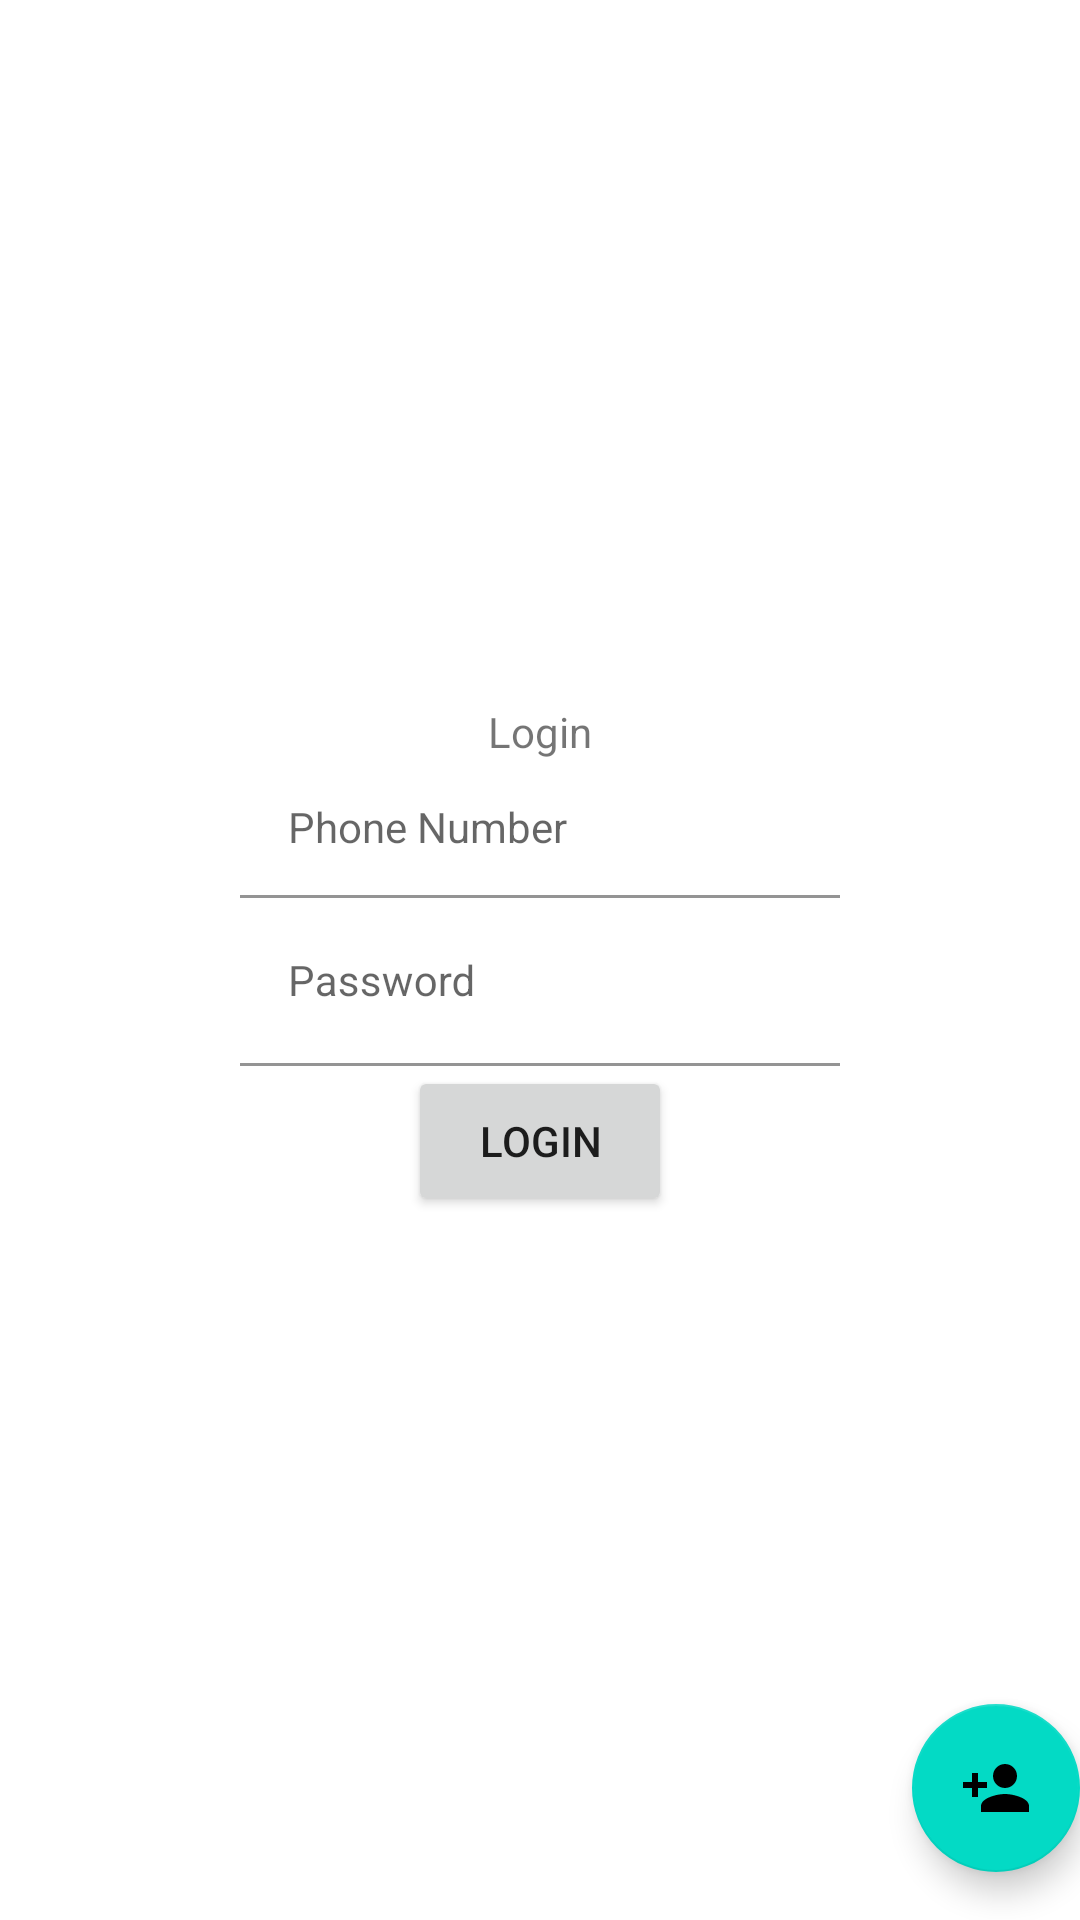

Icon bounding boxes for this 1080*1920 phone screenshot, format [x1=x1, y1=y1, x2=x2, y2=y2]:
person add: [x1=912, y1=1704, x2=1080, y2=1872]
